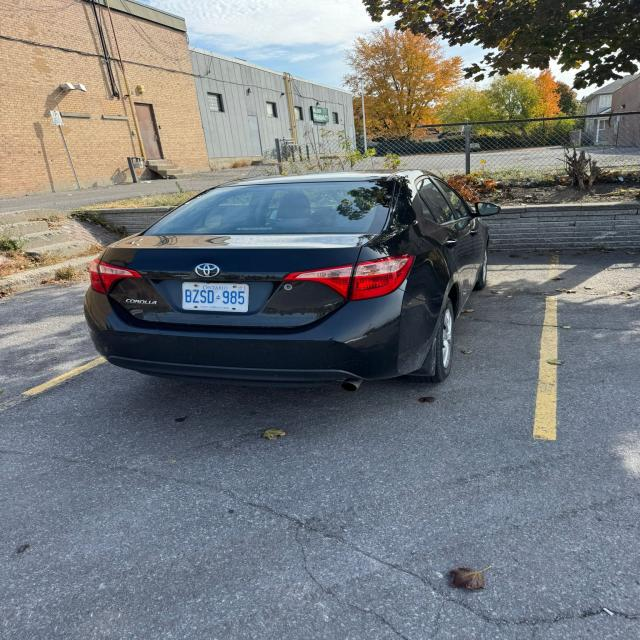plaque: (183, 283, 248, 312)
